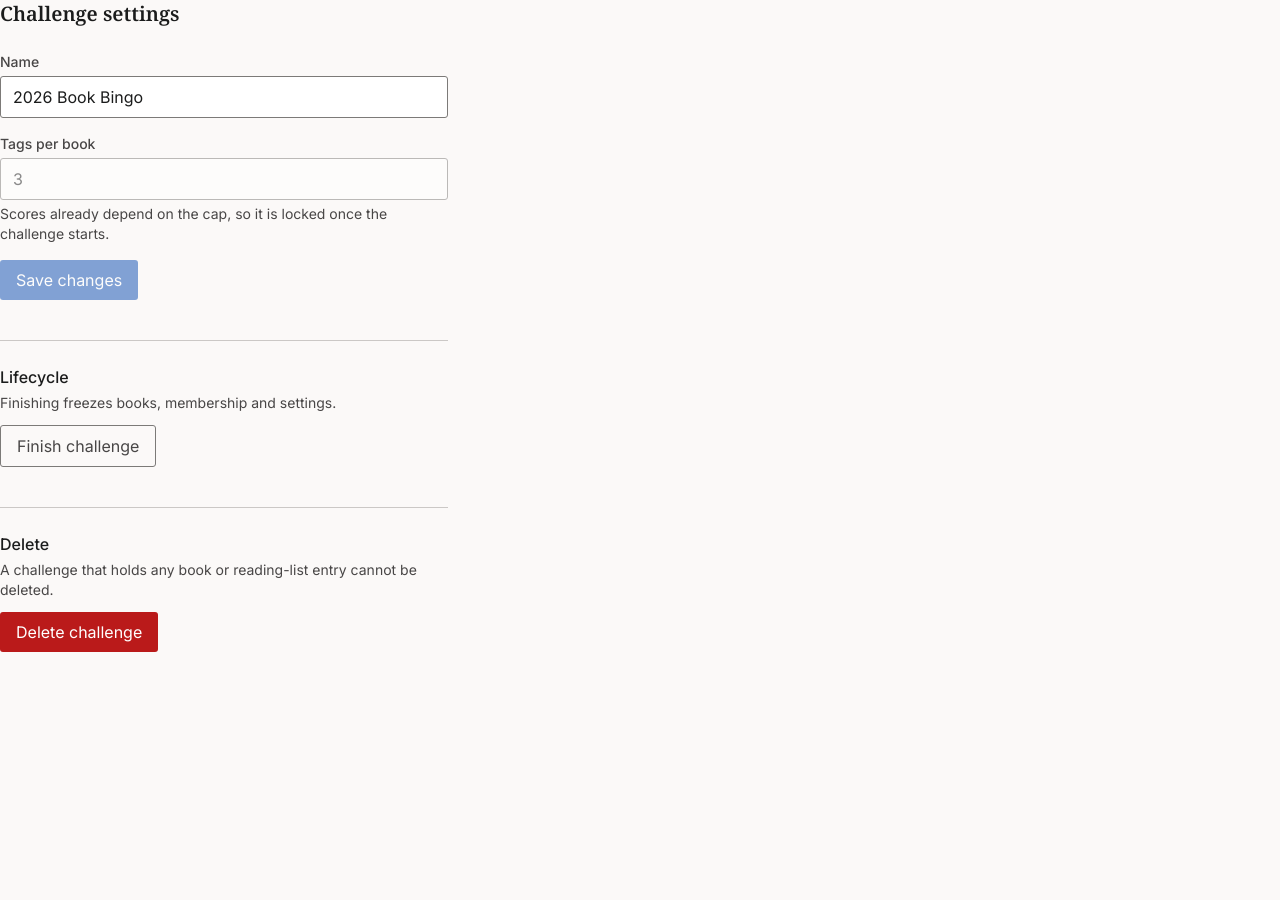
Test case: ChallengeSettingsPage › asks for the next status, not the current one, when finishing
Click the button "Finish challenge" at coordinates (78, 446), box x1=0 y1=425 x2=156 y2=467
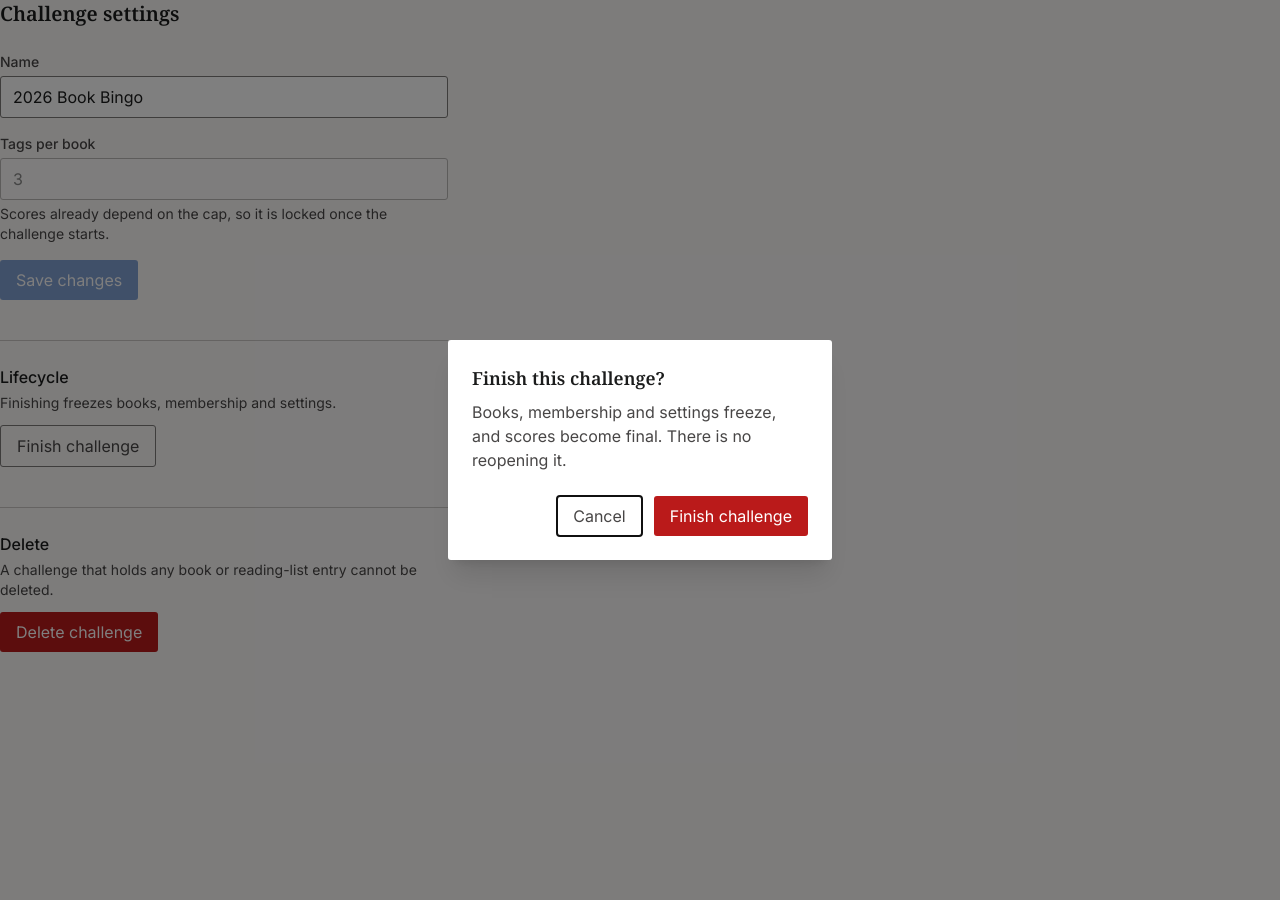
Click the button "Finish challenge" at coordinates (731, 516), box x1=654 y1=496 x2=808 y2=536
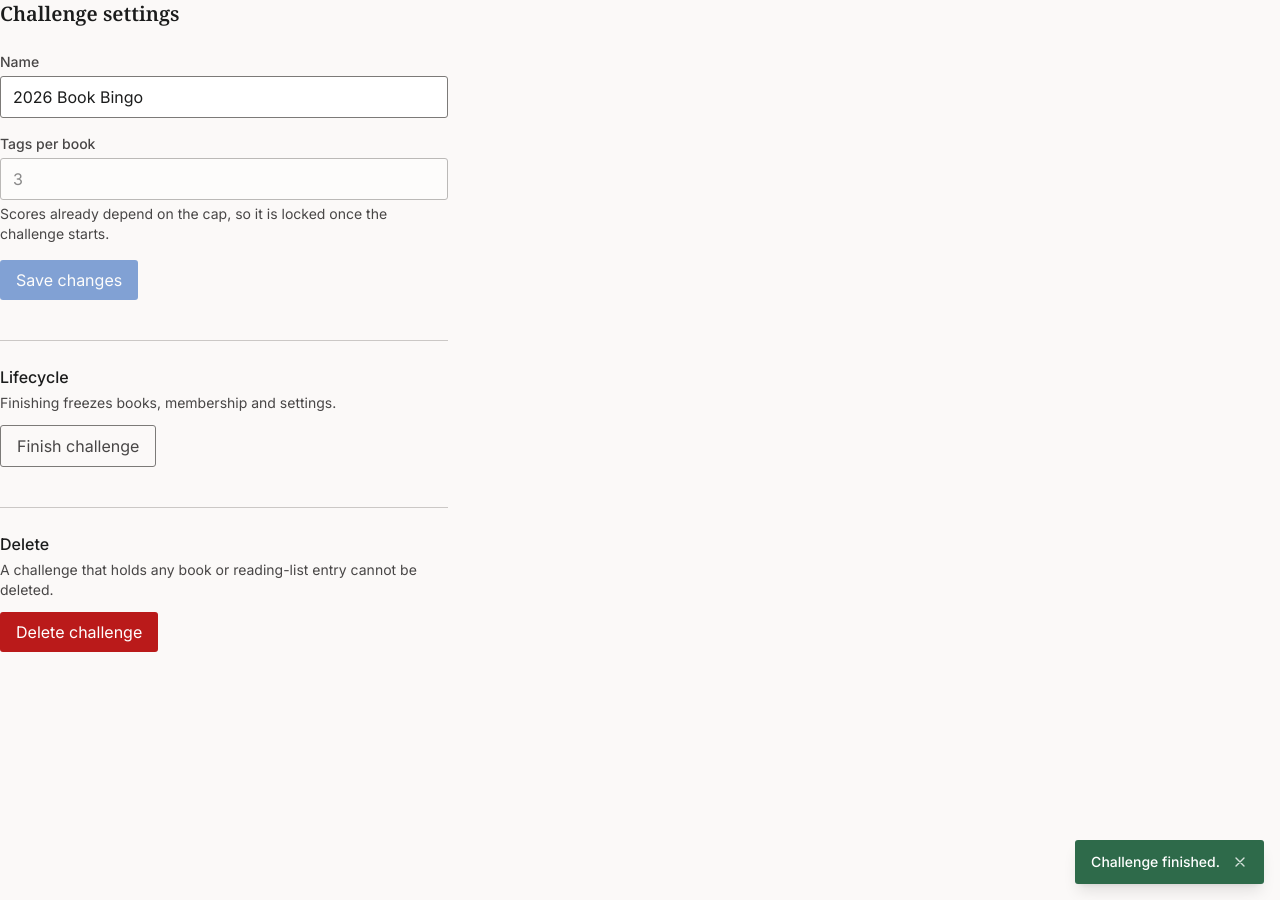
Result: the text "Challenge finished." is shown at x1=1091 y1=852 x2=1220 y2=872
